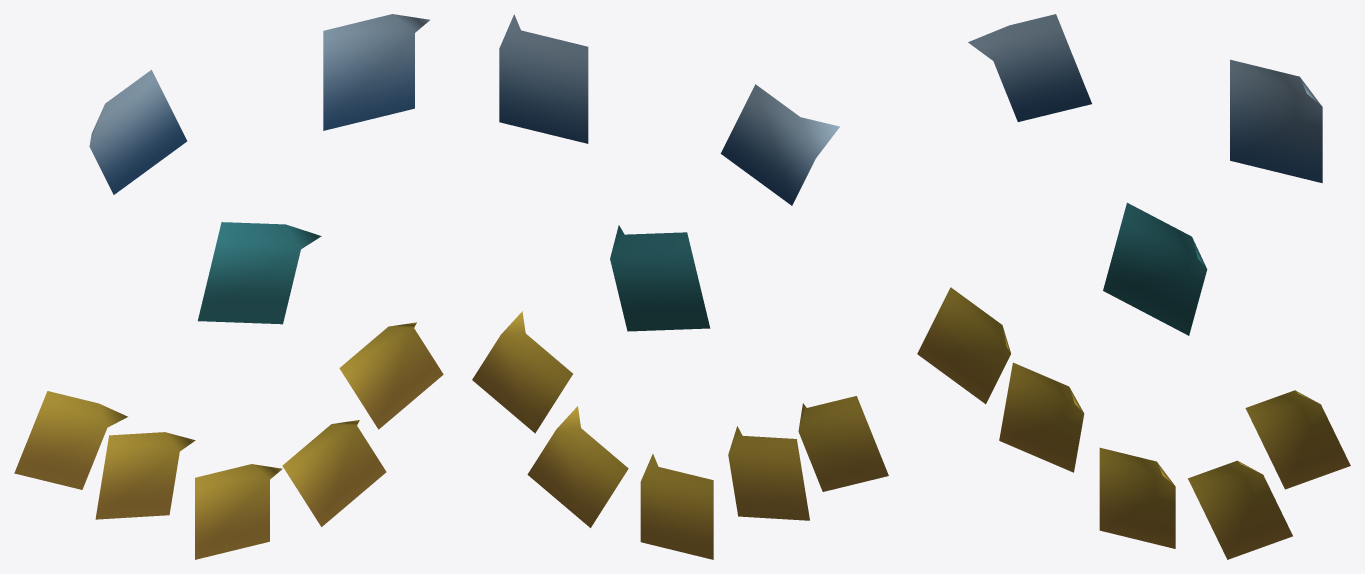
Rendered from Postits_03.fbx.
The picture shows the model from 3 angles, left to right: view 1: azimuth 30°, elevation 25°; view 2: azimuth 150°, elevation 25°; view 3: azimuth 330°, elevation 25°; orthographic projection. The views are drawn at different scales.
Parts seen in each view (by area): view 1: Plane002; view 2: Plane002; view 3: Plane002.
Part boxes in pixels (<box>): Plane002: <box>14,14,443,559</box>; Plane002: <box>472,14,888,559</box>; Plane002: <box>917,14,1350,559</box>.
Bounding box in the file's own units: 75.77 × 84.43 × 4.75.
